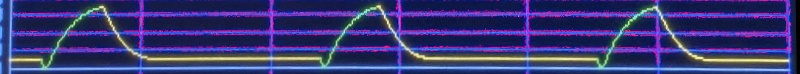leakage: (0, 0, 776, 74)
